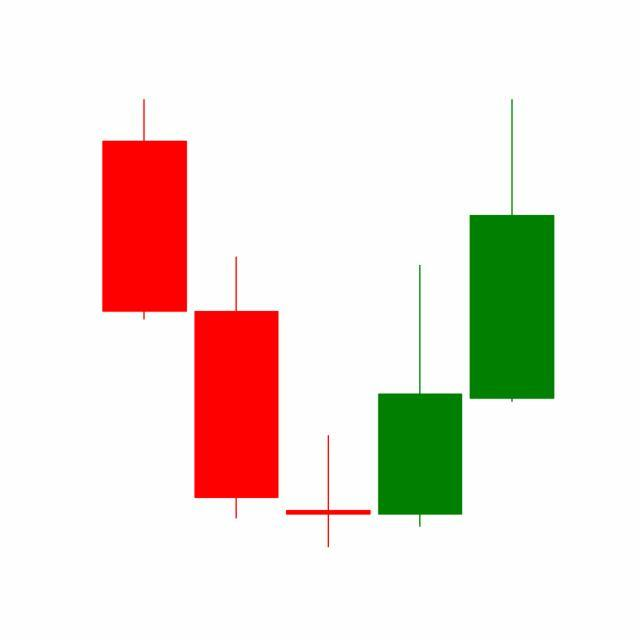Morning Star: (190, 253, 467, 549)
